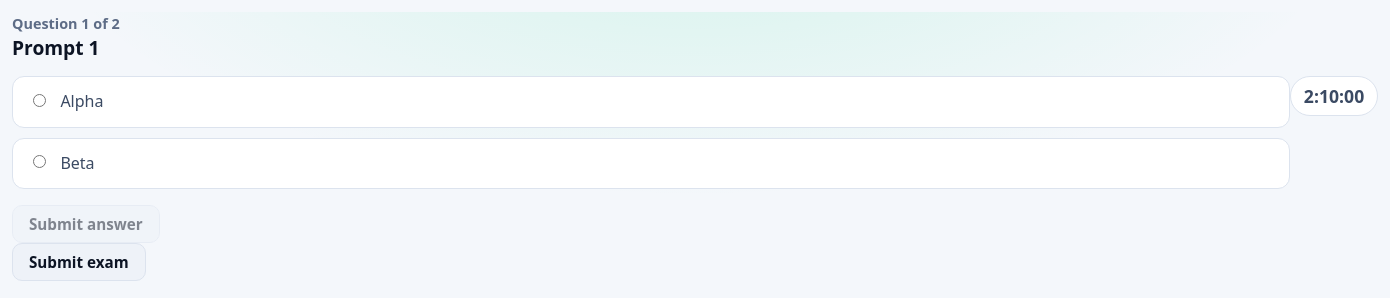
Test case: timed exam (REQ-PRAC-001) › hides feedback while the exam is running and moves on
Expected: the text "2:10:00" is shown, x1=1290 y1=76 x2=1378 y2=116
Click the radio button labelled "Alpha": (40, 101) x1=33 y1=94 x2=46 y2=107
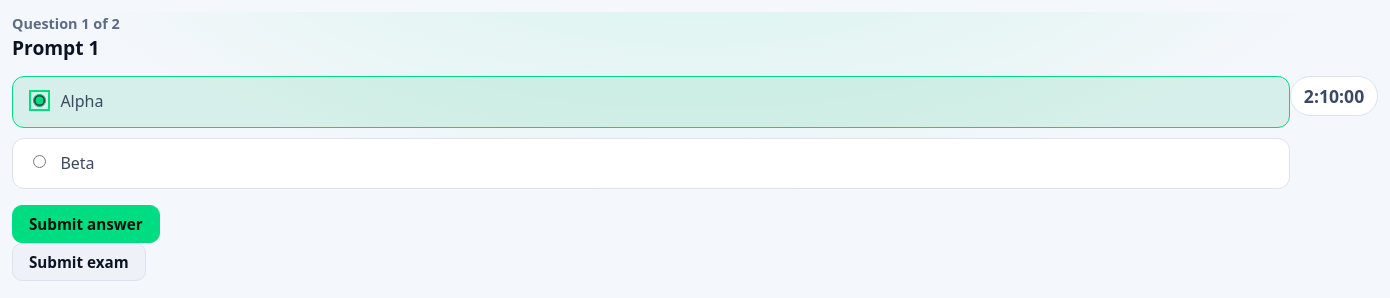
Click the button "Submit answer": (86, 224) x1=12 y1=205 x2=160 y2=243
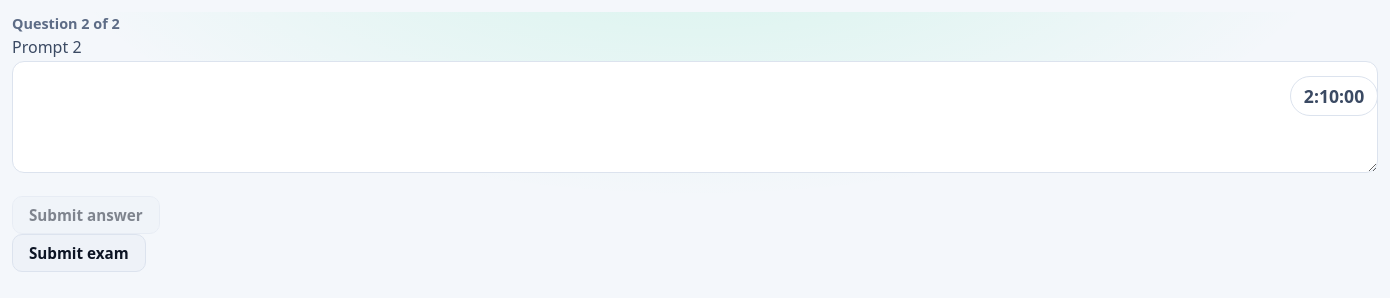
Now the text "Question 2 of 2" is shown, box x1=12 y1=14 x2=120 y2=33
